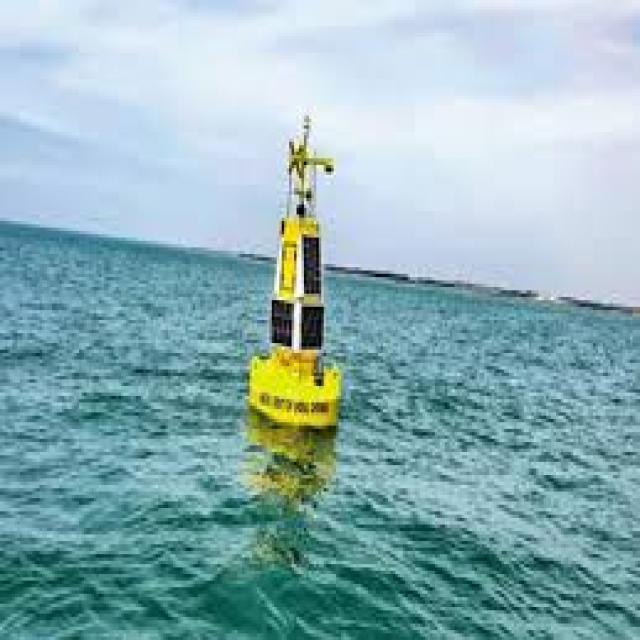2.5 sepcial mark: (231, 95, 360, 438)
